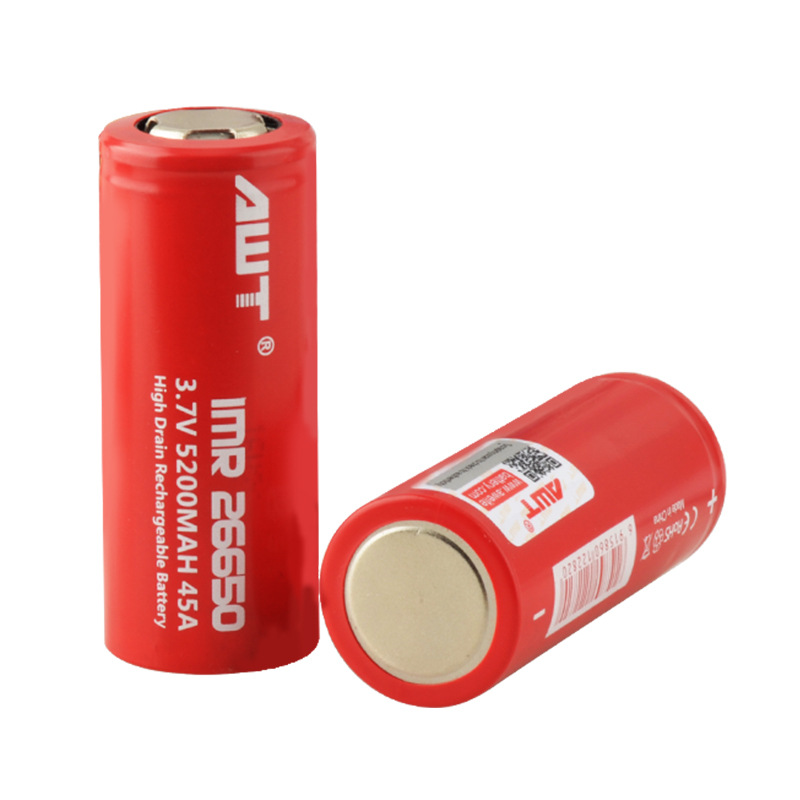Battery: (318, 368, 732, 712), (94, 103, 325, 679)
